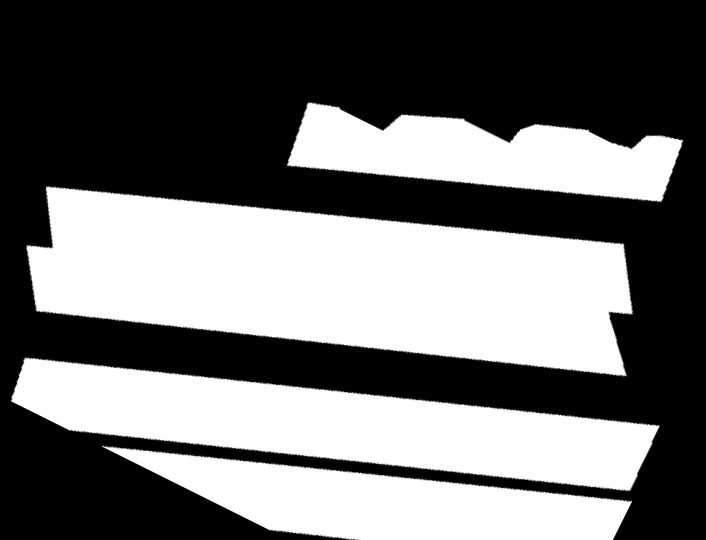parkingspot: (26, 186, 633, 376), (11, 358, 660, 491), (102, 446, 632, 540), (287, 103, 683, 202)
